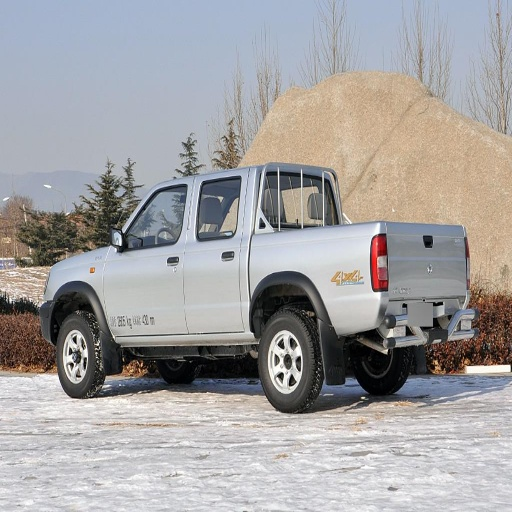trunk: (181, 228, 452, 341)
